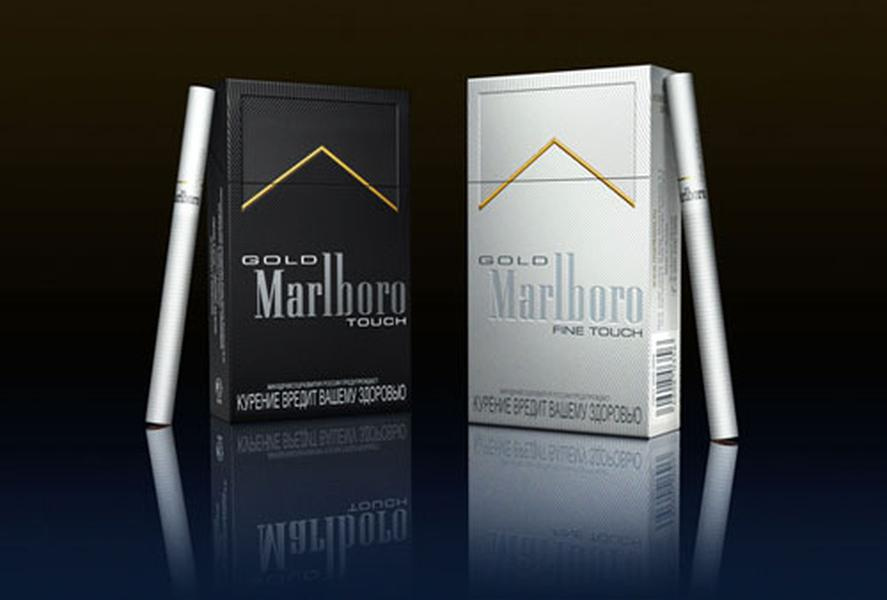marlboro_gold: (471, 75, 650, 423)
